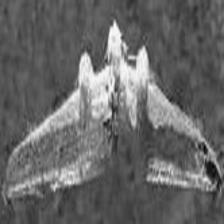plane: (6, 19, 221, 205)
